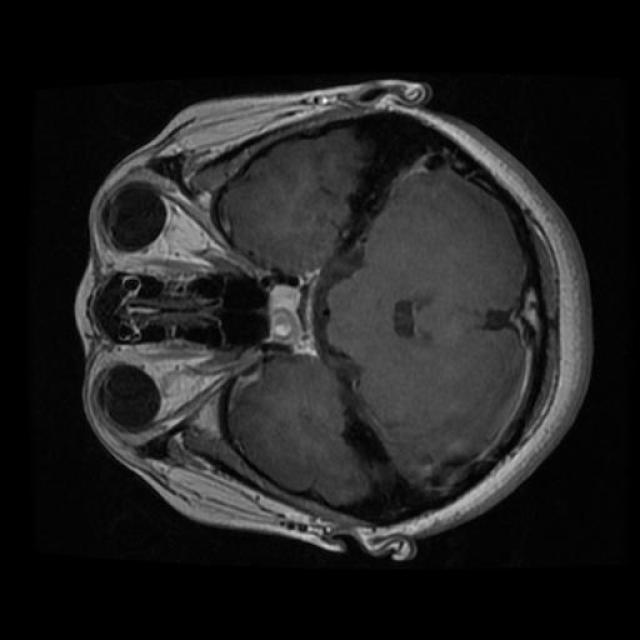Pituitary: (263, 269, 320, 356)
